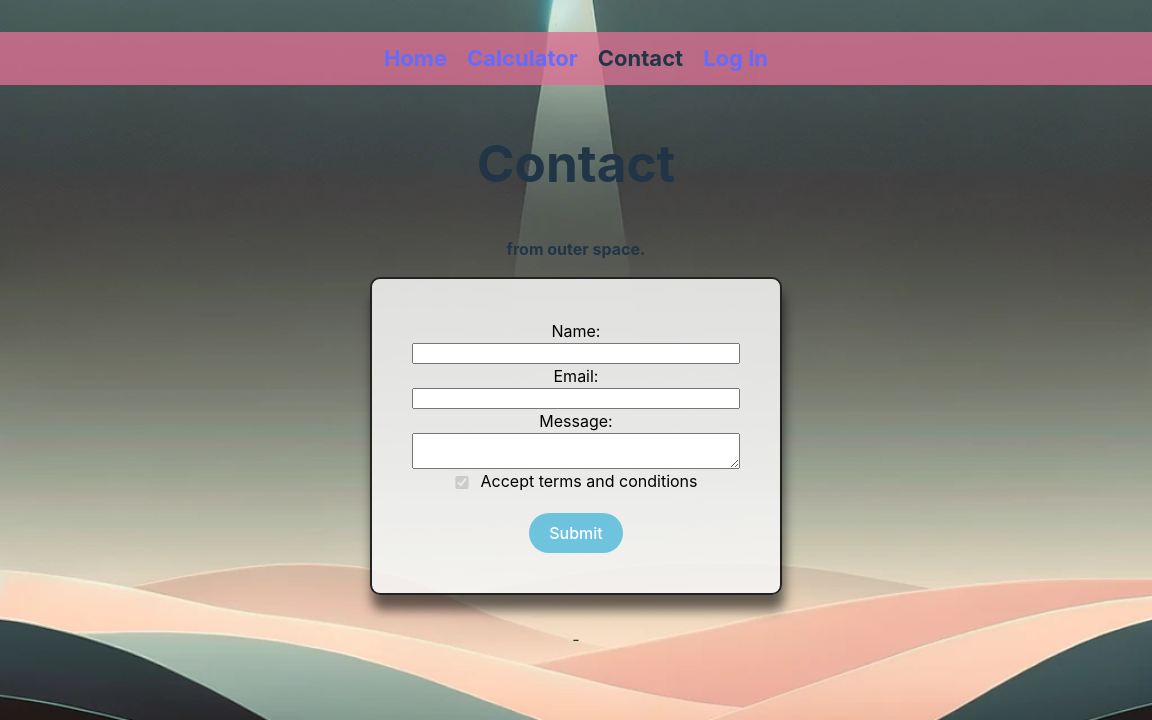
Test case: Form validation test FAIL › Check if fields display error message correctly
The width and height of the screenshot is (1152, 720).
Filling out form with bad info.
In the field with test id "nameField": (577, 355) x1=413 y1=344 x2=740 y2=365, type "J"
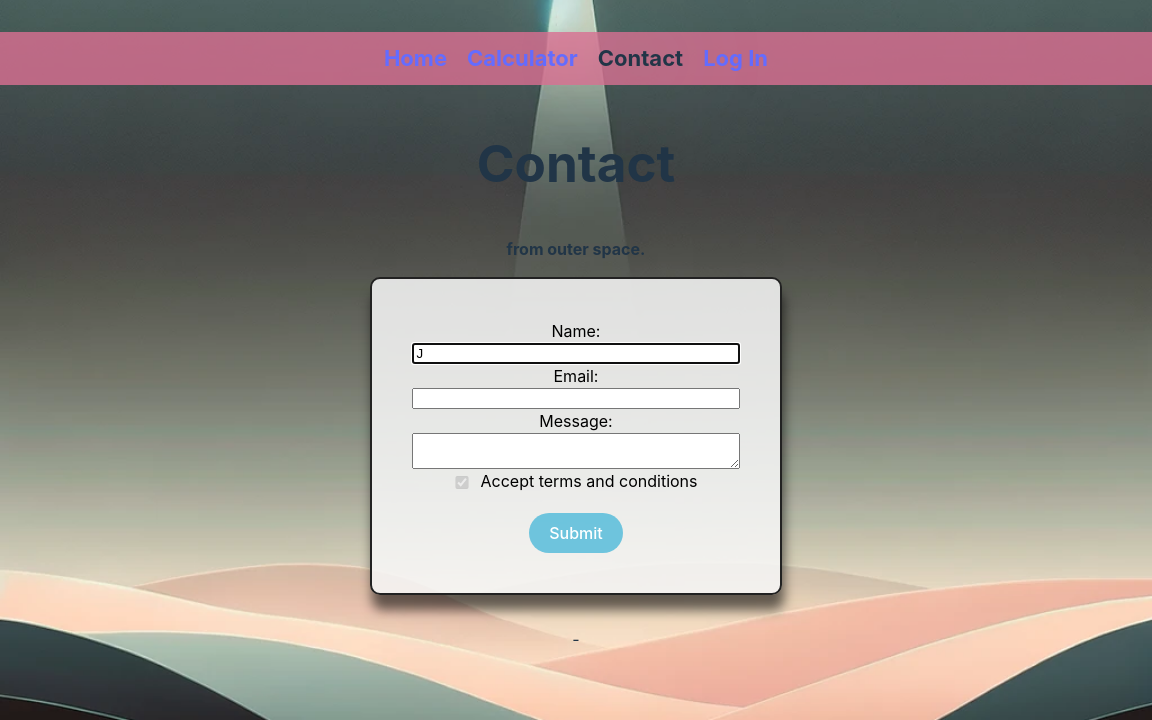
In the field with test id "emailField": (577, 400) x1=413 y1=389 x2=740 y2=410, type "john.com"
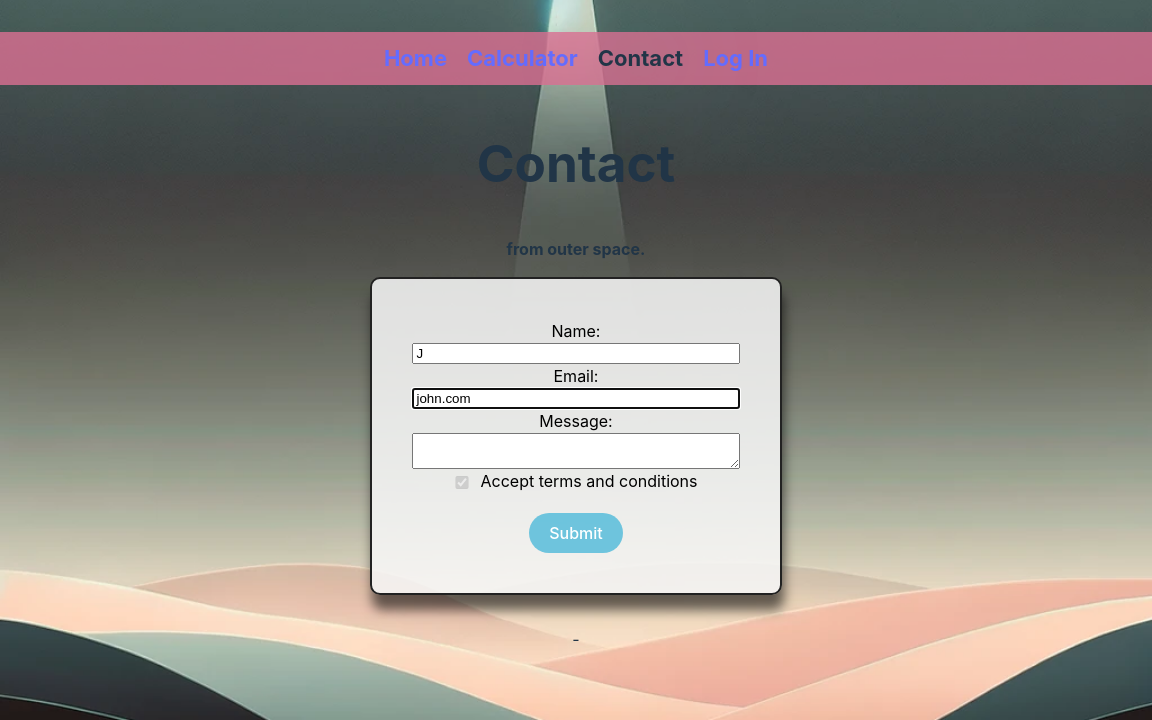
In the text box with test id "messageField": (577, 452) x1=413 y1=434 x2=740 y2=470, type "less10"
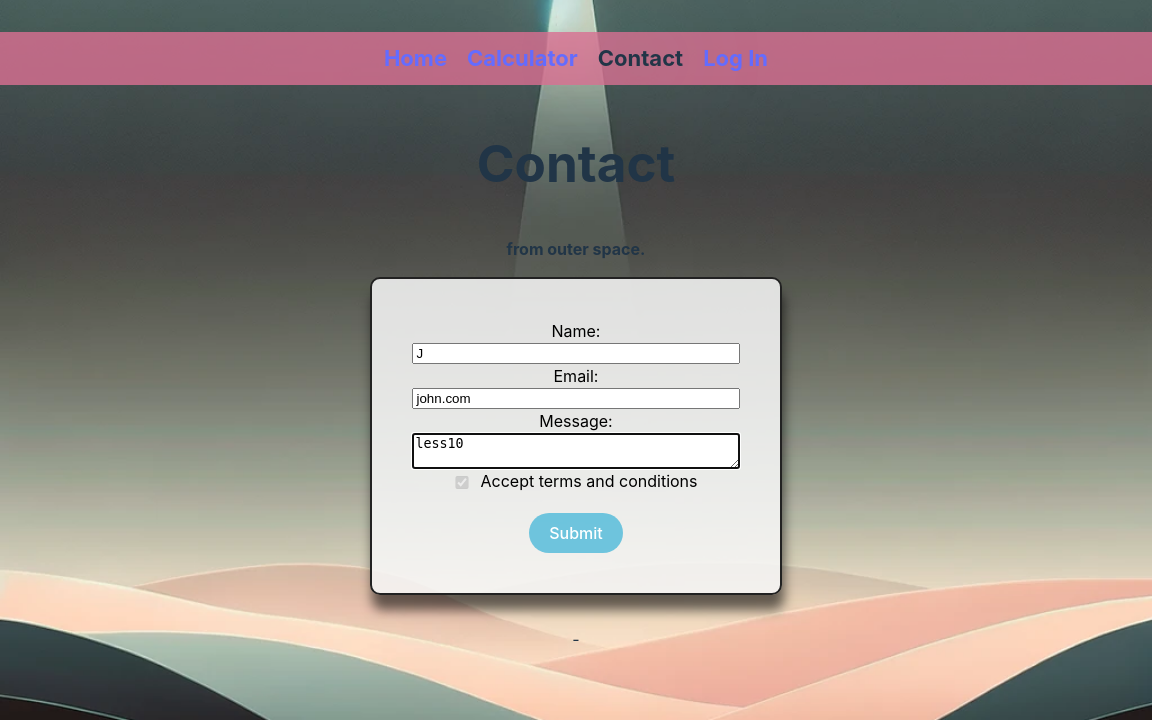
Click the button with test id "submitButton": (576, 534) x1=529 y1=514 x2=623 y2=554
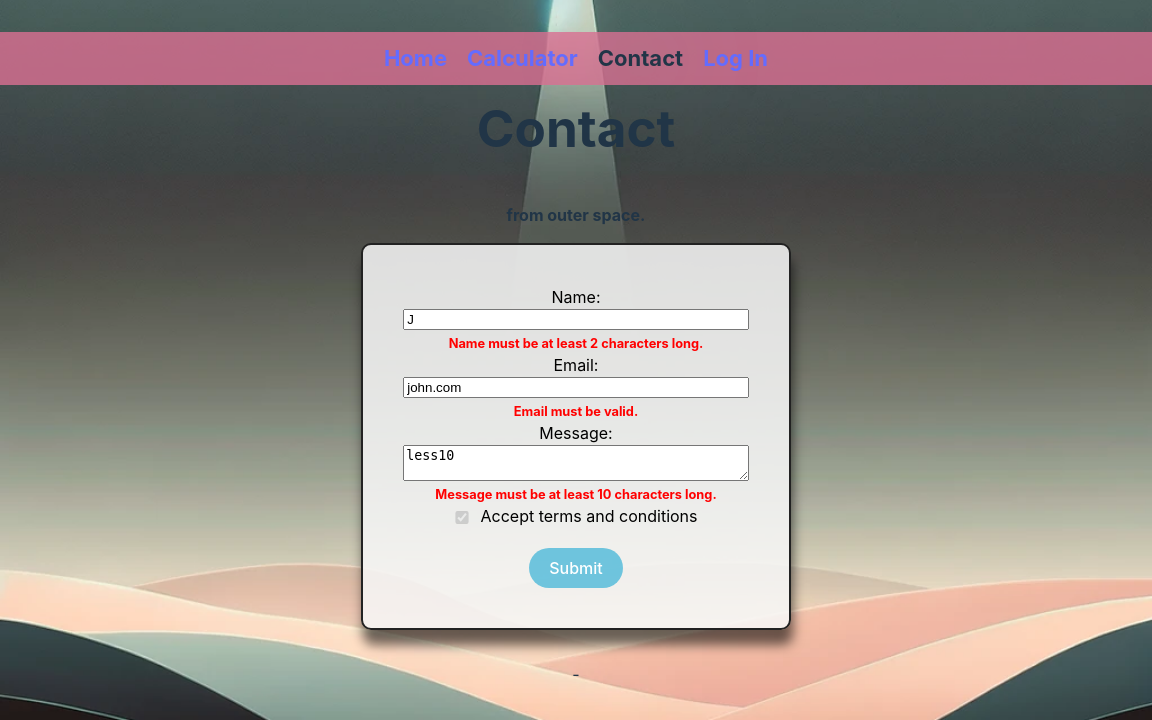
Result: the text with test id "nameErrorLabel" reads "Name must be at least 2 characters long." at x1=449 y1=336 x2=704 y2=351
Result: the text with test id "emailErrorLabel" reads "Email must be valid." at x1=514 y1=404 x2=638 y2=419
Result: the text with test id "messageErrorLabel" reads "Message must be at least 10 characters long." at x1=435 y1=487 x2=716 y2=502
